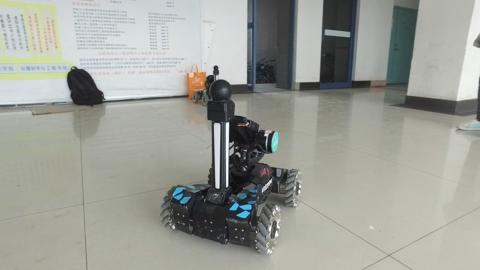bag: (62, 63, 107, 108), (185, 62, 207, 99)
chariot: (157, 77, 304, 256), (191, 65, 226, 106)
